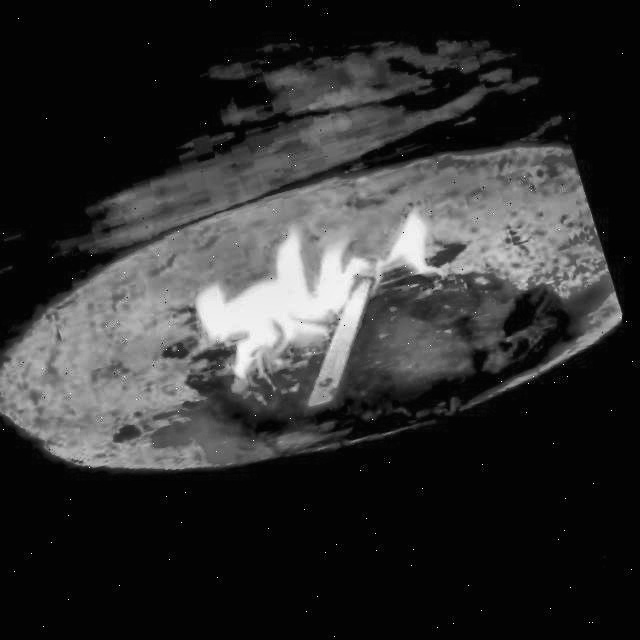Fire: (169, 162, 477, 400)
